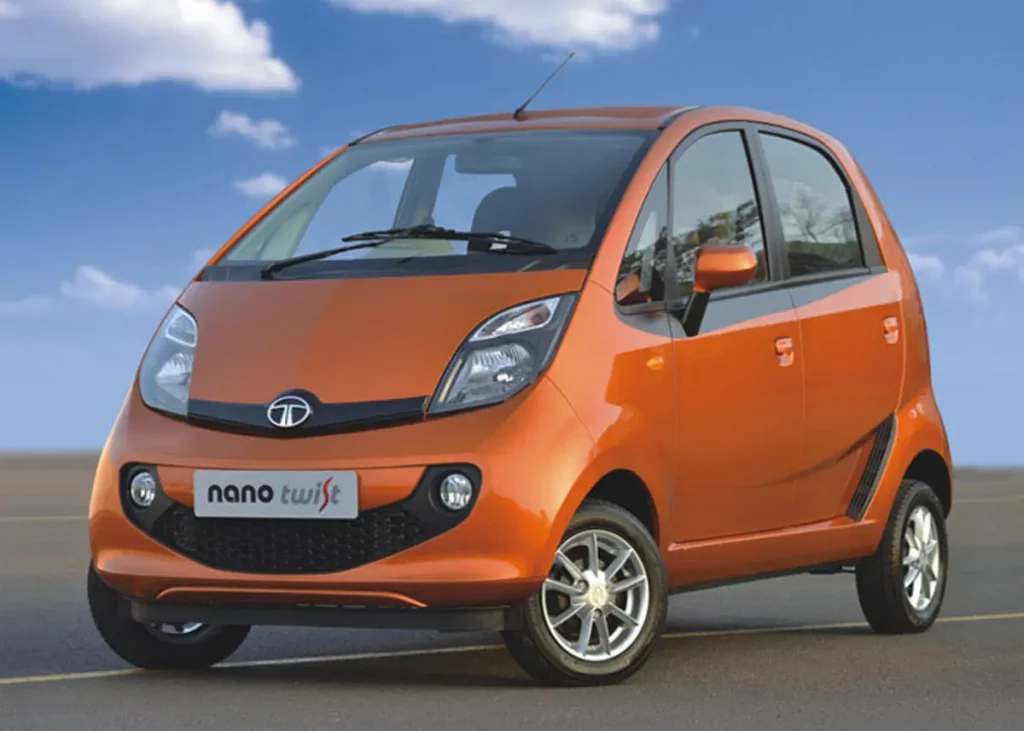Nano: (84, 105, 953, 674)
